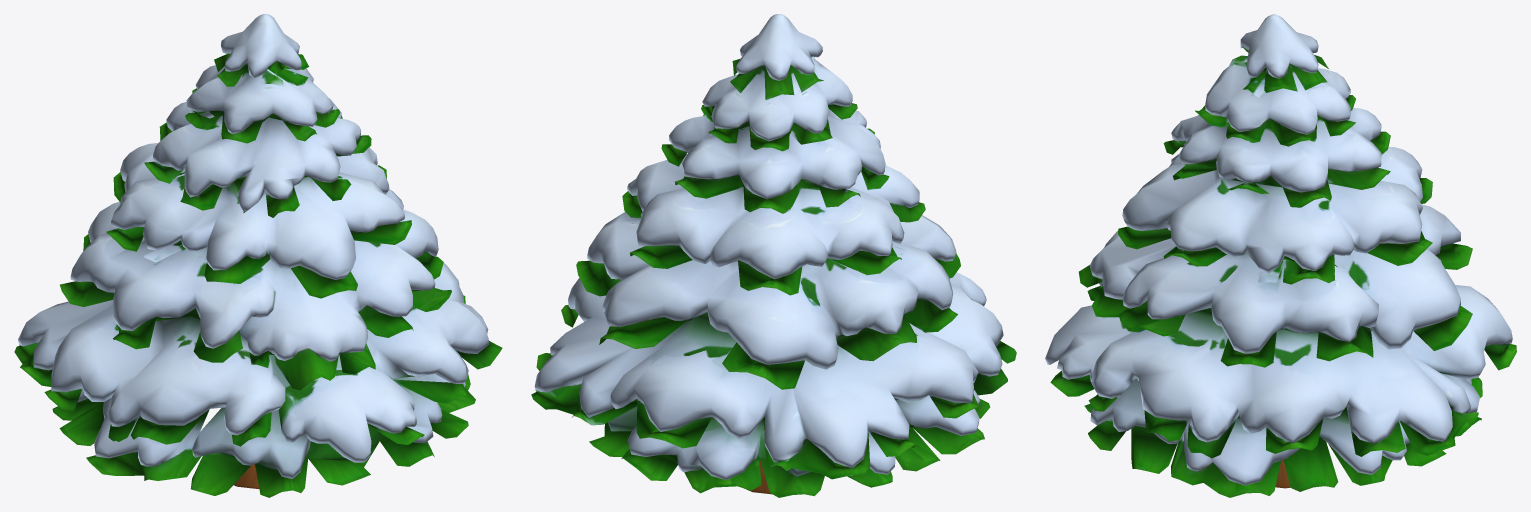
The model's file is tree-2-full.glb.
3 renders of one model, left to right at view 1: azimuth 30°, elevation 25°; view 2: azimuth 150°, elevation 25°; view 3: azimuth 270°, elevation 25°, orthographic.
Parts seen in each view (by area): view 1: tripo_node_efe01a2c-b9b3-4efe-bb6f-3c70c46c4166; view 2: tripo_node_efe01a2c-b9b3-4efe-bb6f-3c70c46c4166; view 3: tripo_node_efe01a2c-b9b3-4efe-bb6f-3c70c46c4166.
Boxes of the visible parts, <box> form: tripo_node_efe01a2c-b9b3-4efe-bb6f-3c70c46c4166: <box>14,14,502,497</box>; tripo_node_efe01a2c-b9b3-4efe-bb6f-3c70c46c4166: <box>531,14,1016,497</box>; tripo_node_efe01a2c-b9b3-4efe-bb6f-3c70c46c4166: <box>1045,14,1516,497</box>.
Bounding box in the file's own units: 0.9472 × 1 × 0.9384.
Materials: 1 (1 with a texture image).
